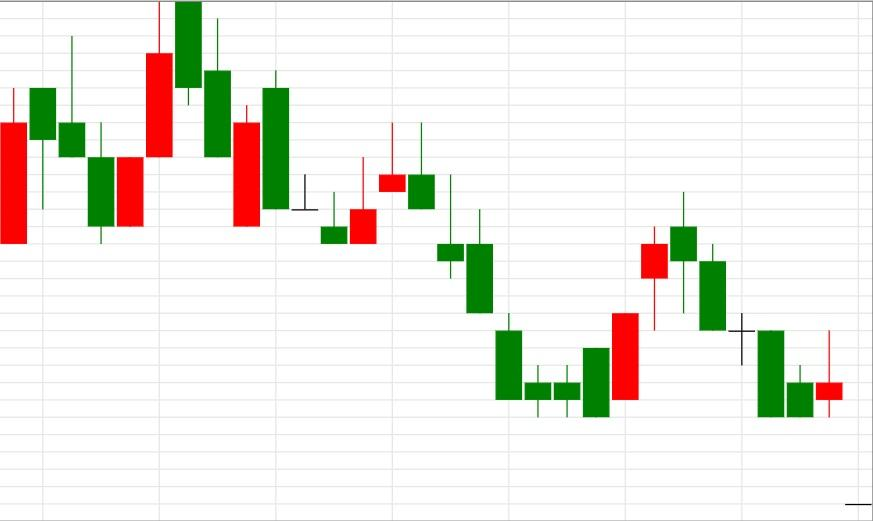inverse_hammer_rise: (175, 0, 349, 244)
shooting_star_fall: (320, 122, 408, 244)
